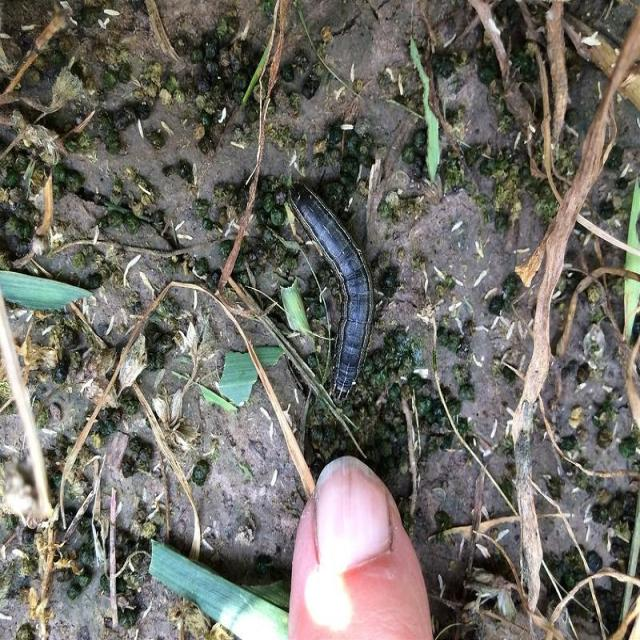army worm: (286, 172, 385, 409)
